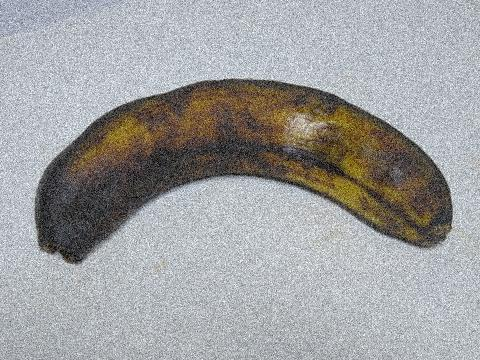overripe: (21, 58, 473, 281)
